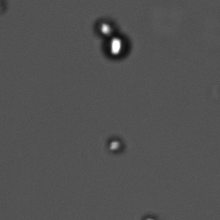Living Cell: (101, 32, 132, 60), (99, 134, 130, 159), (97, 16, 118, 33)
